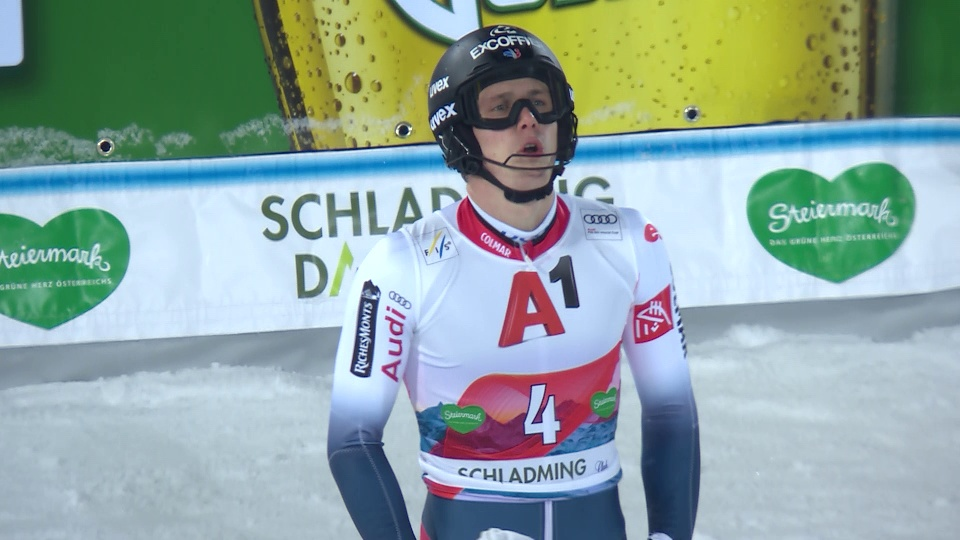a1: (492, 253, 591, 348)
audi: (582, 210, 621, 232), (388, 291, 414, 310)
schladming: (248, 184, 467, 307)
steiermark: (743, 161, 915, 274), (1, 213, 133, 334), (438, 404, 487, 434), (583, 390, 622, 422)
